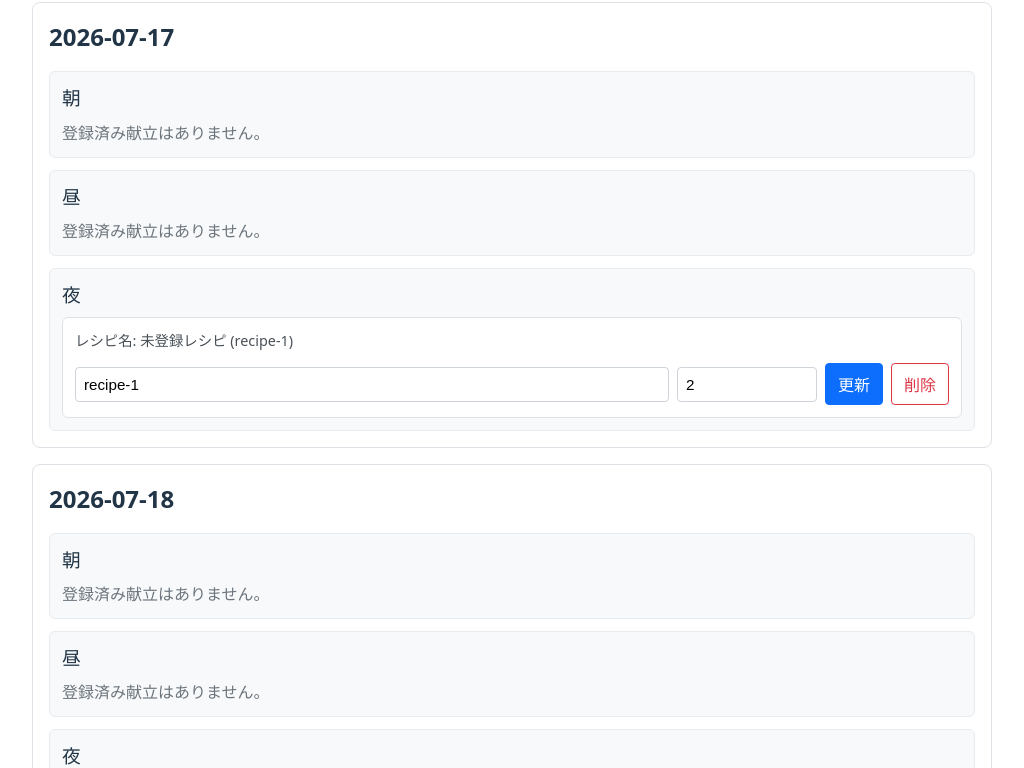
Test: MenusPage › 編集時にrecipeIdが空なら更新しない
(page scrolled)
Clear the field named "レシピID" at point(372, 384), box x1=75 y1=367 x2=669 y2=402
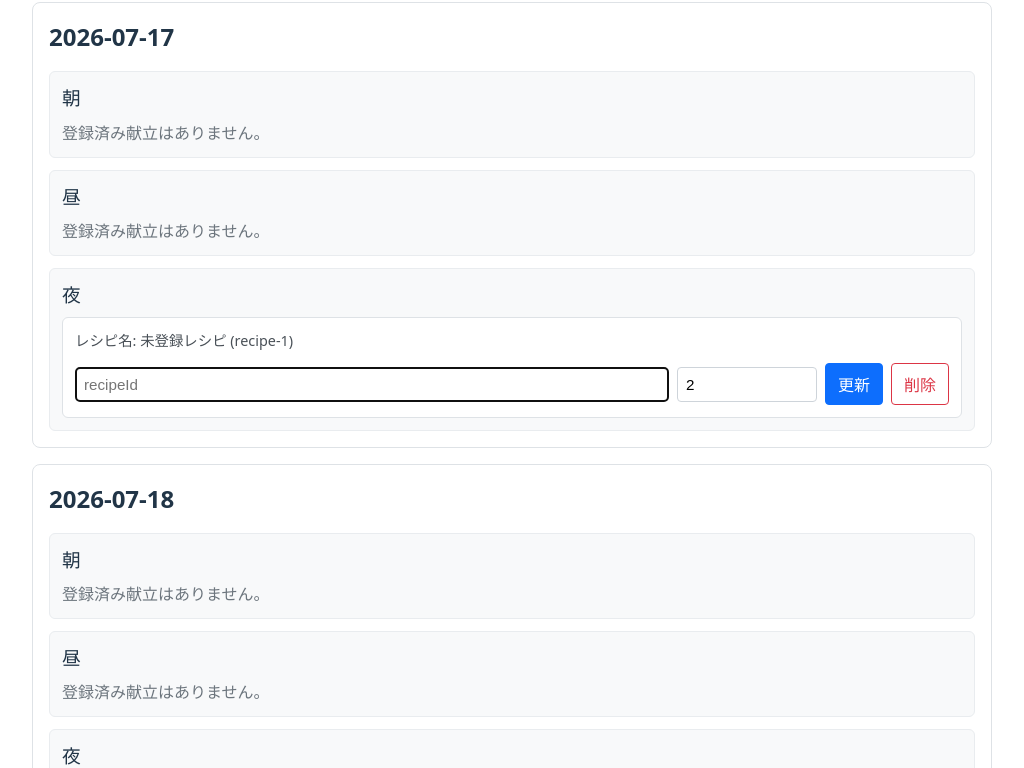
Click the button "更新" at point(854, 384), box x1=825 y1=363 x2=883 y2=405
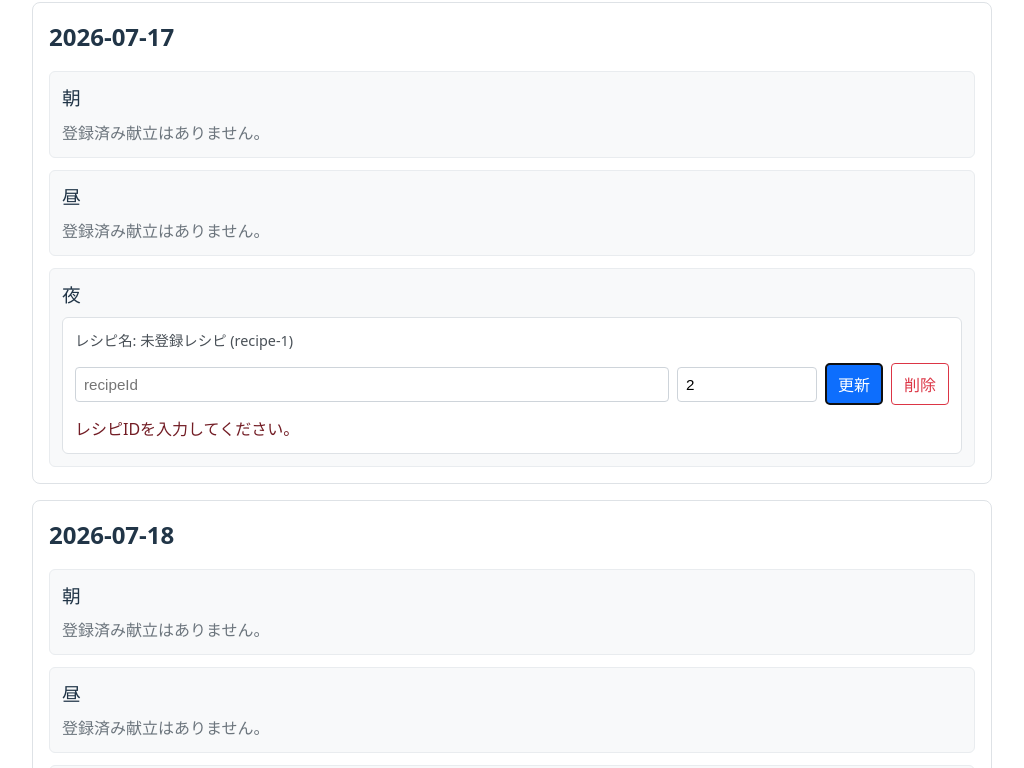
Check: the text "レシピIDを入力してください。" is shown, box x1=75 y1=418 x2=299 y2=440
